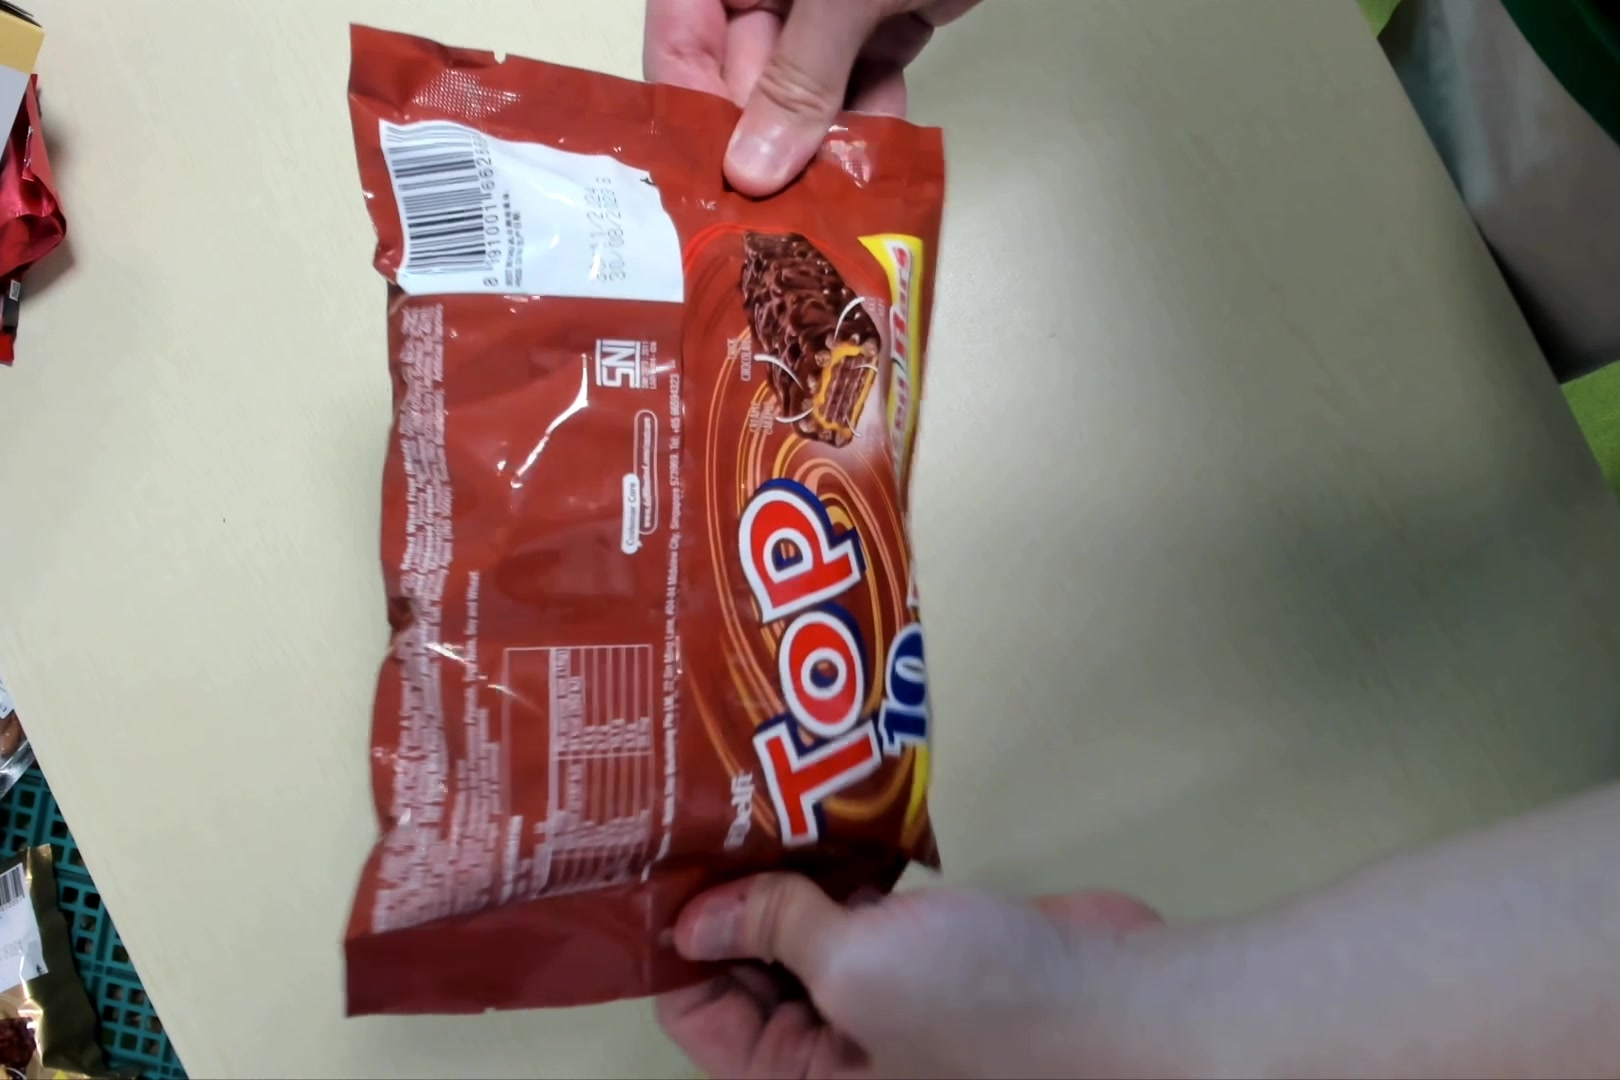SweetsChocolatesOthers_100-199g_NonHalal_NonHealthy: (350, 27, 952, 1019)
